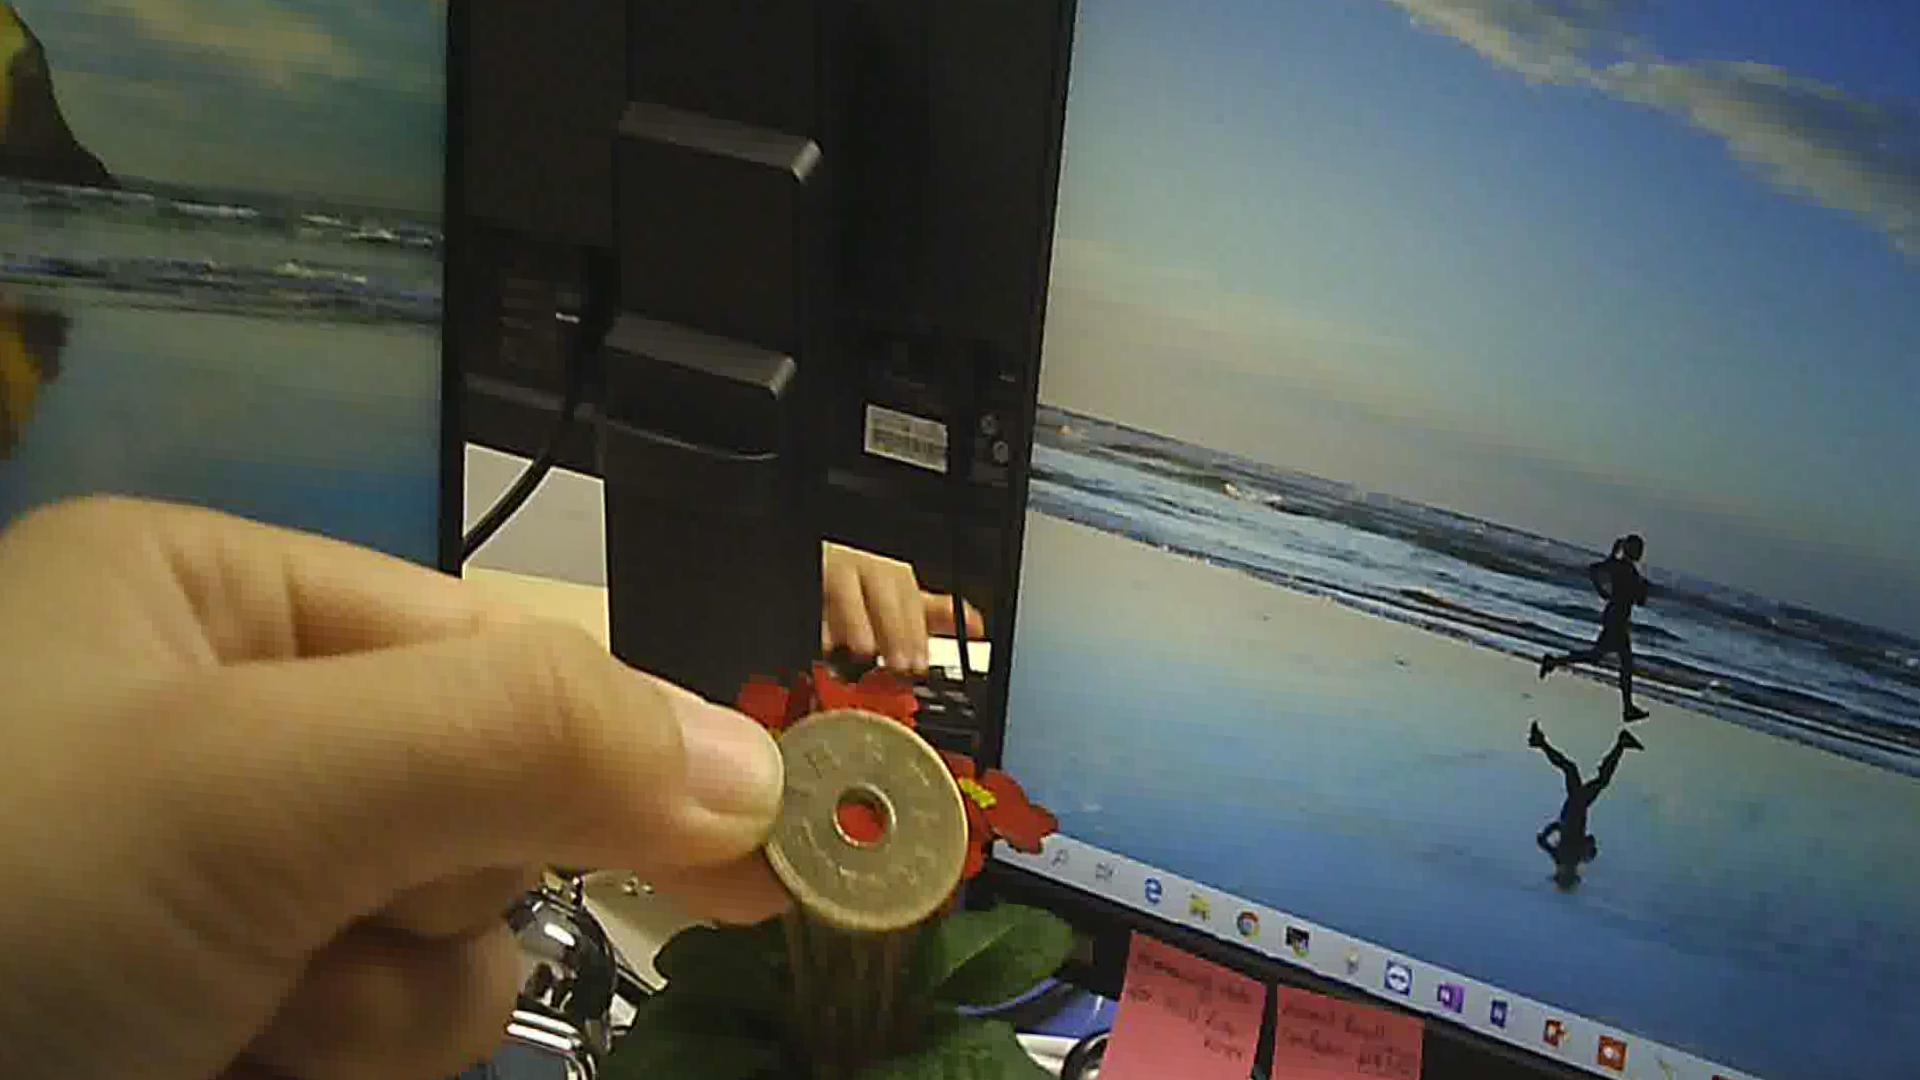5 Yen: (741, 702, 975, 952)
